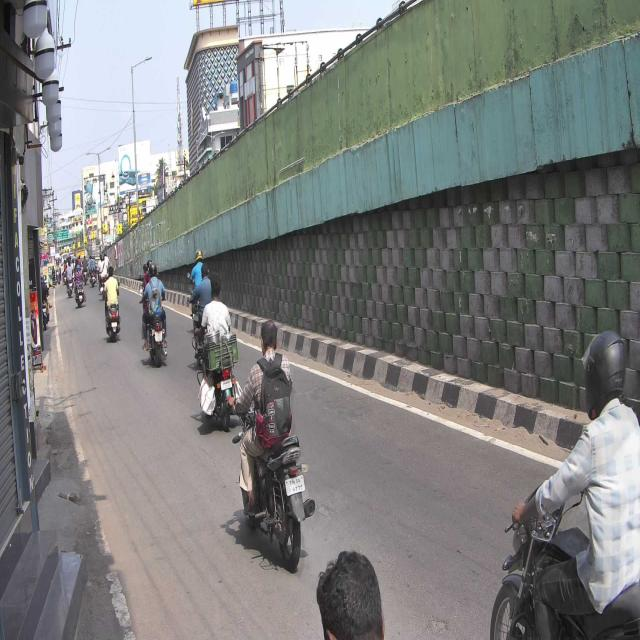single_rider: (239, 319, 317, 573)
